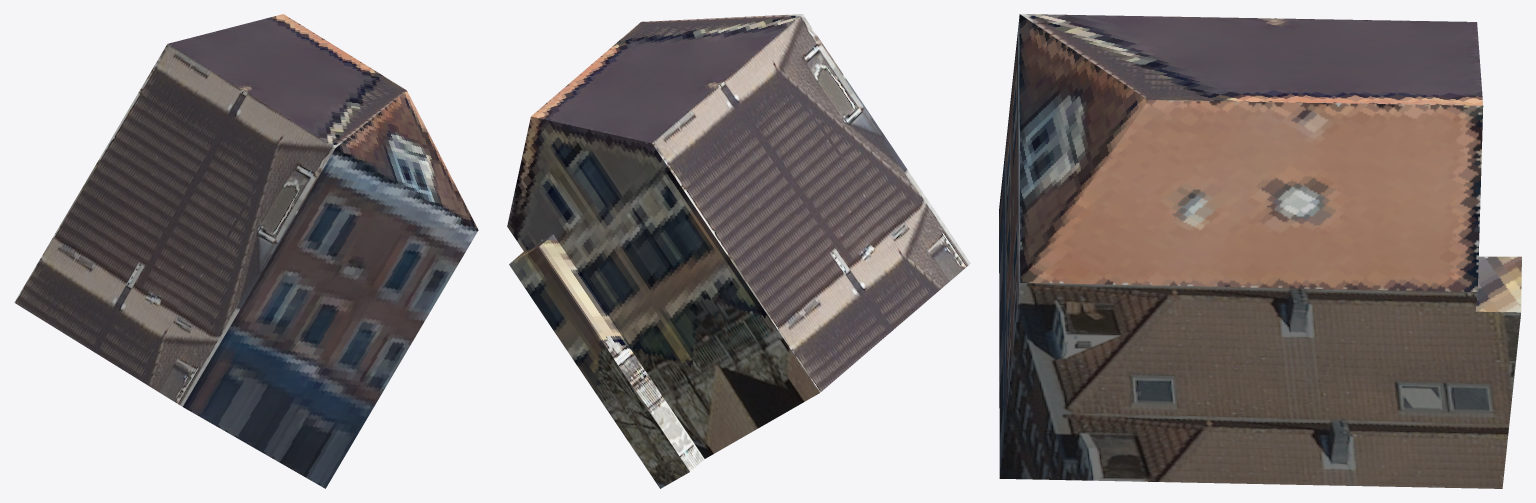
The picture shows the model from 3 angles, left to right: view 1: azimuth 30°, elevation 25°; view 2: azimuth 150°, elevation 25°; view 3: azimuth 270°, elevation 25°; orthographic projection. The views are drawn at different scales.
Visible parts, largest first — view 1: BAG_0599100000675880 (×2); view 2: BAG_0599100000675880 (×4); view 3: BAG_0599100000675880 (×3).
Part boxes in pixels (box(x1,y1,x2,y2)): BAG_0599100000675880 (×2): box(14, 14, 478, 488); BAG_0599100000675880 (×4): box(507, 14, 970, 488); BAG_0599100000675880 (×3): box(999, 14, 1521, 488).
Bounding box in the file's own units: 13.41 × 14.08 × 13.52.
Materials: 4 (4 with a texture image).
